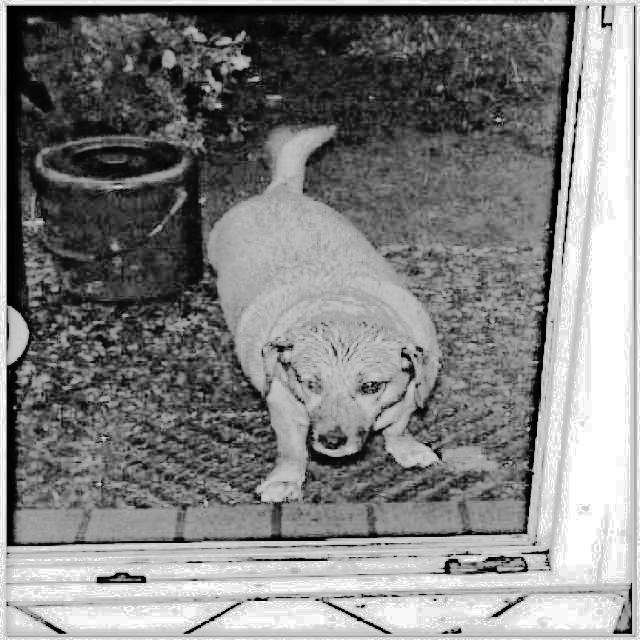Dog: (201, 112, 454, 503)
